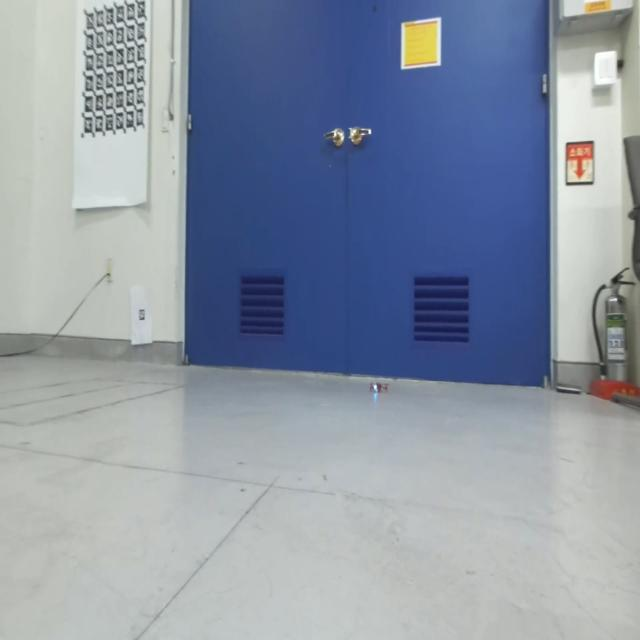crazyflie: (366, 376, 389, 399)
